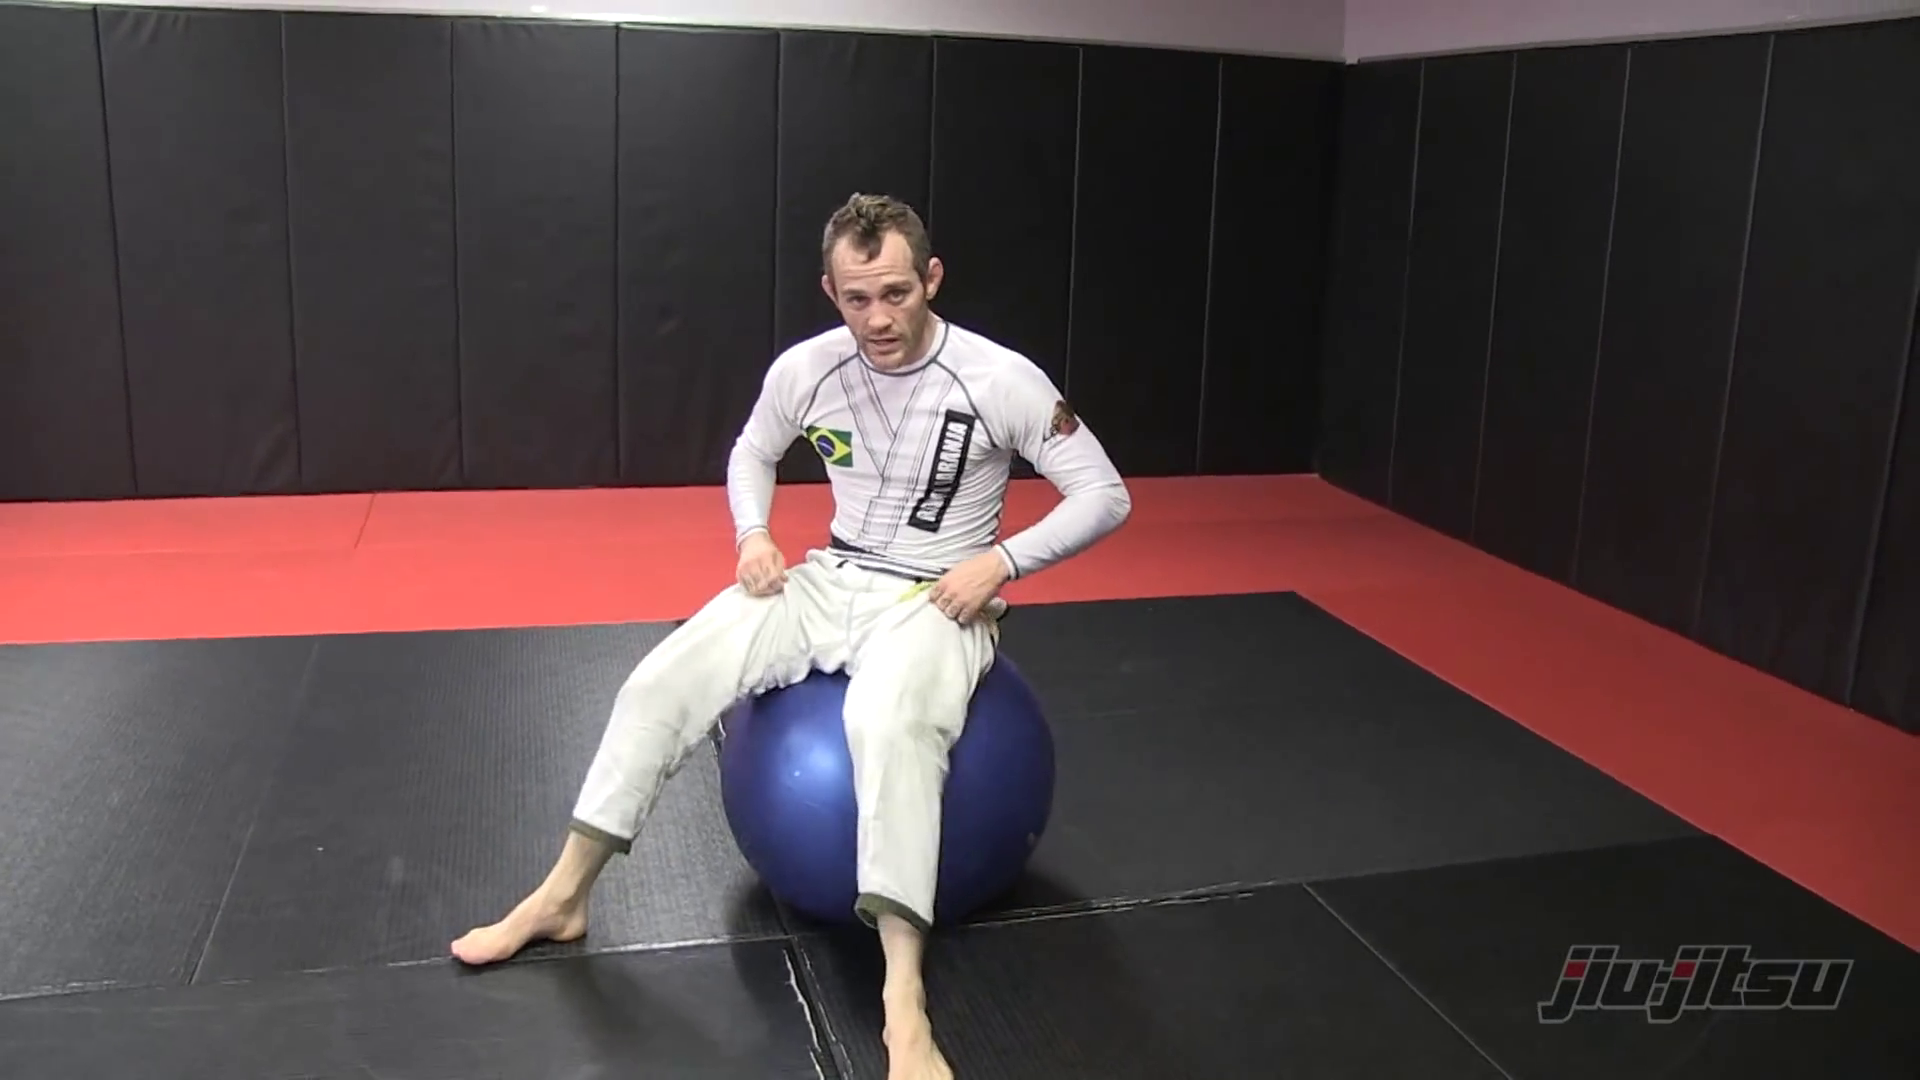yogaball: (705, 608, 1092, 935)
